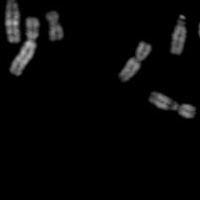chromosome: (10, 16, 40, 75), (117, 41, 150, 82), (148, 91, 196, 118), (0, 0, 20, 42), (170, 15, 185, 54), (45, 11, 64, 41), (198, 13, 200, 50)
